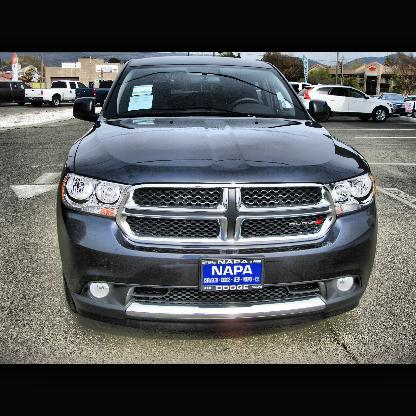Dodge Durango SUV 2012: (56, 56, 381, 339)
